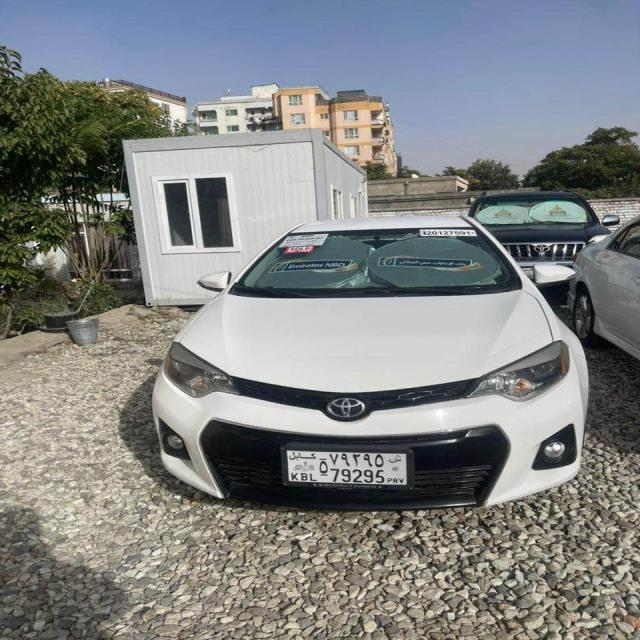Plate: (286, 448, 412, 489)
